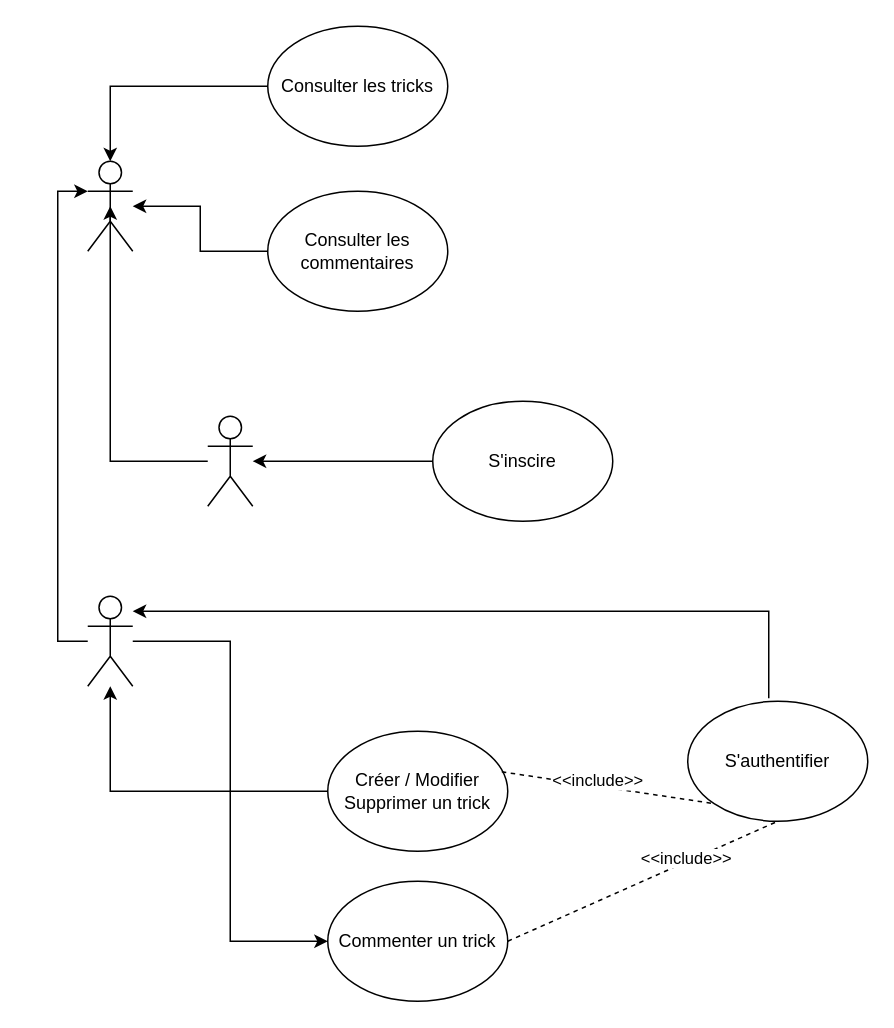
Image size: 894x1028. Some labels were removed from this diagram. The box of each missing label's shape, as (x1, y1, x2, y2) in pixels:
Utilisateur: (86, 160, 133, 251)
Utilisateur authentifié: (86, 595, 133, 686)
Visiteur: (206, 415, 253, 506)
